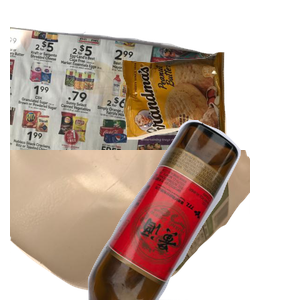glass: (85, 120, 300, 300)
paper: (10, 22, 225, 202)
plastic: (10, 150, 250, 300)
trash: (120, 50, 300, 182)
